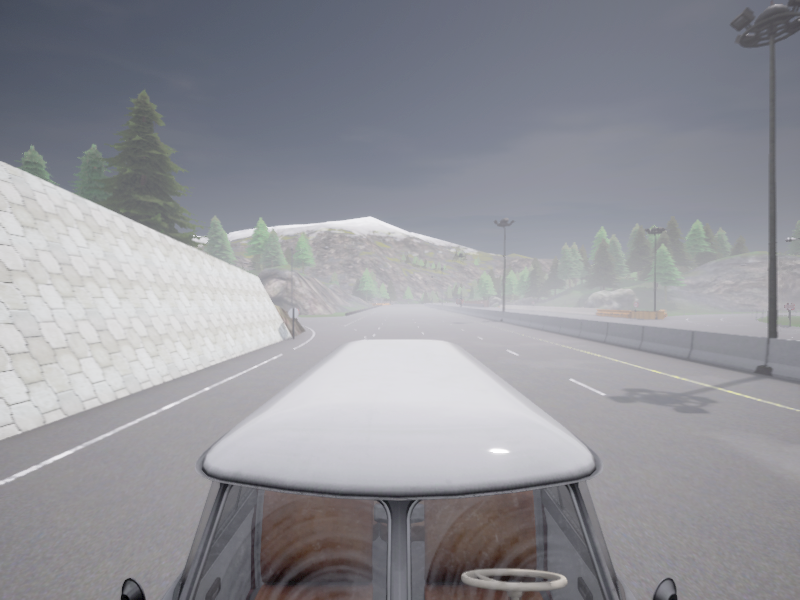vehicle: (120, 339, 677, 599), (456, 299, 463, 304)
